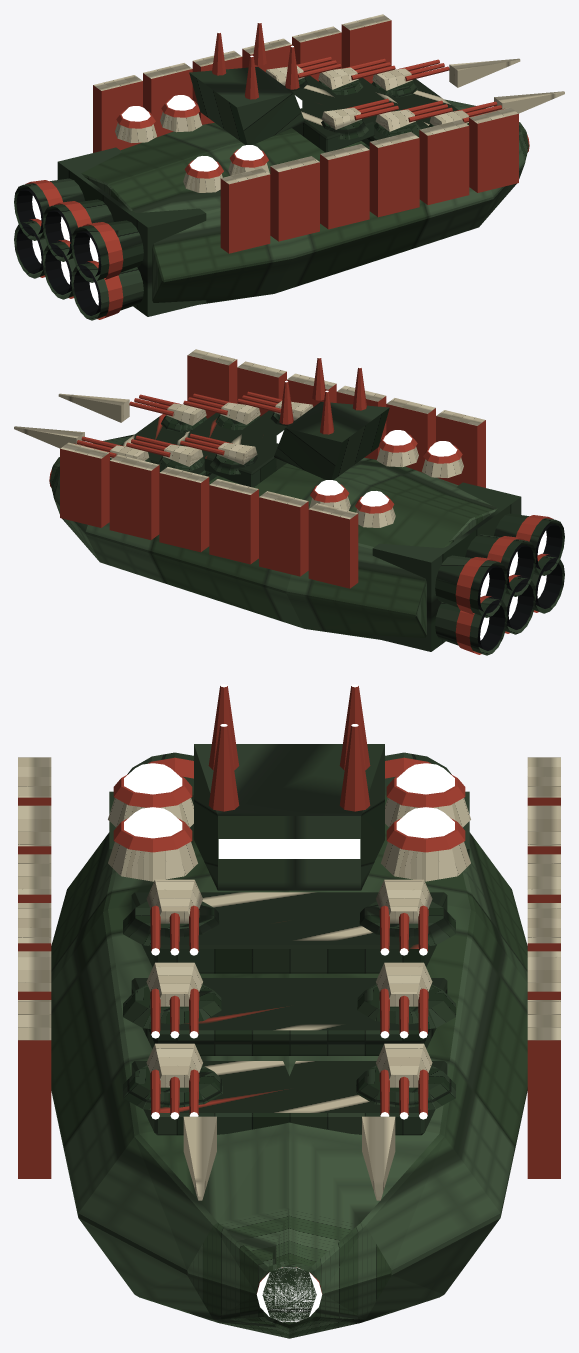
The model's file is dreadnought.glb.
The picture shows the model from 3 angles, top to bottom: view 1: azimuth 30°, elevation 25°; view 2: azimuth 150°, elevation 25°; view 3: azimuth 270°, elevation 25°; orthographic projection. The views are drawn at different scales.
Parts seen in each view (by area): view 1: hull_body, engine_block, weapon_turrets, sensor_tower, shield_domes; view 2: hull_body, engine_block, weapon_turrets, sensor_tower, shield_domes; view 3: hull_body, weapon_turrets, sensor_tower, shield_domes, engine_block.
Part boxes in pixels (x1,y1,x2,y2): hull_body: [81, 14, 564, 304]; engine_block: [14, 147, 206, 320]; weapon_turrets: [265, 56, 529, 152]; sensor_tower: [189, 21, 304, 145]; shield_domes: [115, 95, 269, 192]; hull_body: [14, 349, 497, 639]; engine_block: [372, 482, 564, 655]; weapon_turrets: [49, 391, 313, 487]; sensor_tower: [274, 356, 389, 480]; shield_domes: [309, 430, 463, 527]; hull_body: [18, 757, 560, 1338]; weapon_turrets: [123, 879, 455, 1322]; sensor_tower: [194, 684, 384, 890]; shield_domes: [108, 763, 470, 881]; engine_block: [109, 752, 469, 857].
Bounding box in the file's own units: 80 × 36.43 × 38.84.
Materials: 1 (1 with a texture image).
